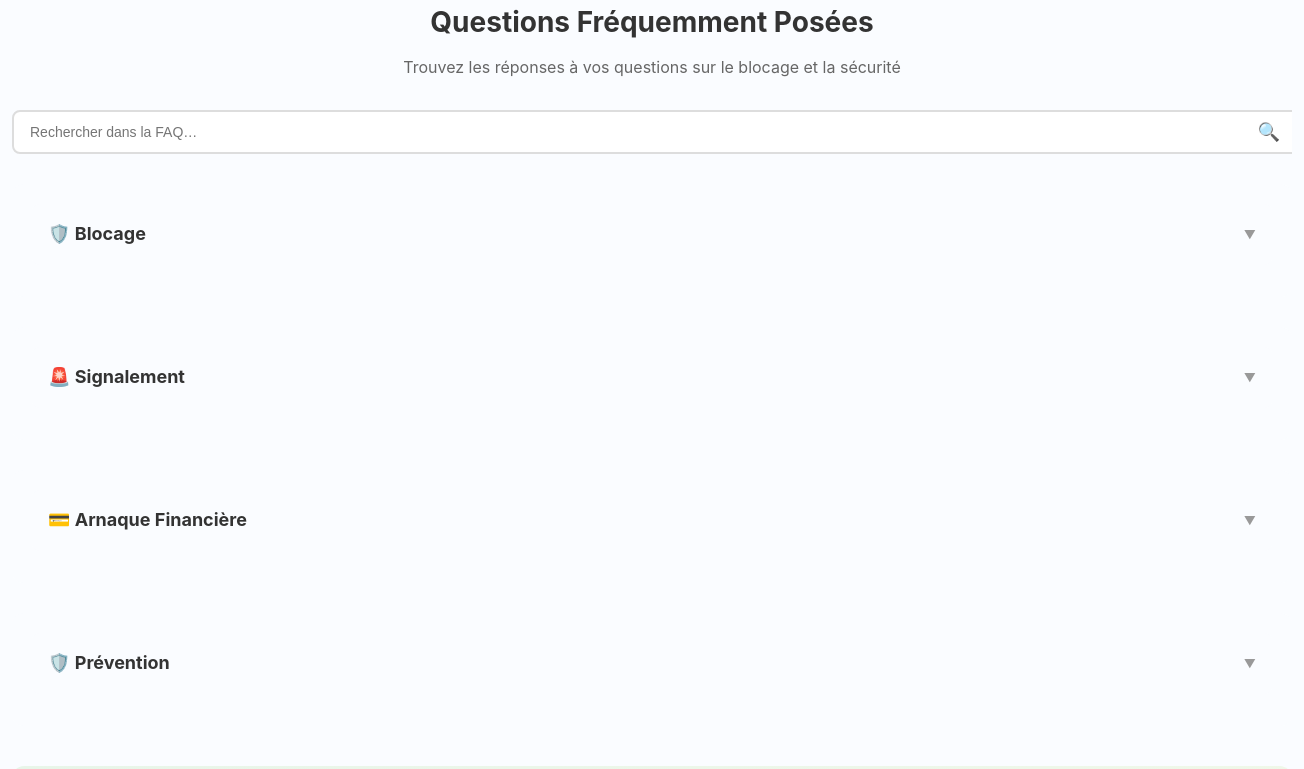
Test: FAQSection Component - Expanded Coverage › Category Display › should show category items when header clicked
Click the button with class "category-header-toggle" showing "🛡️ Blocage ▼" at {"x": 97, "y": 234}, box 32,204 -> 1272,265
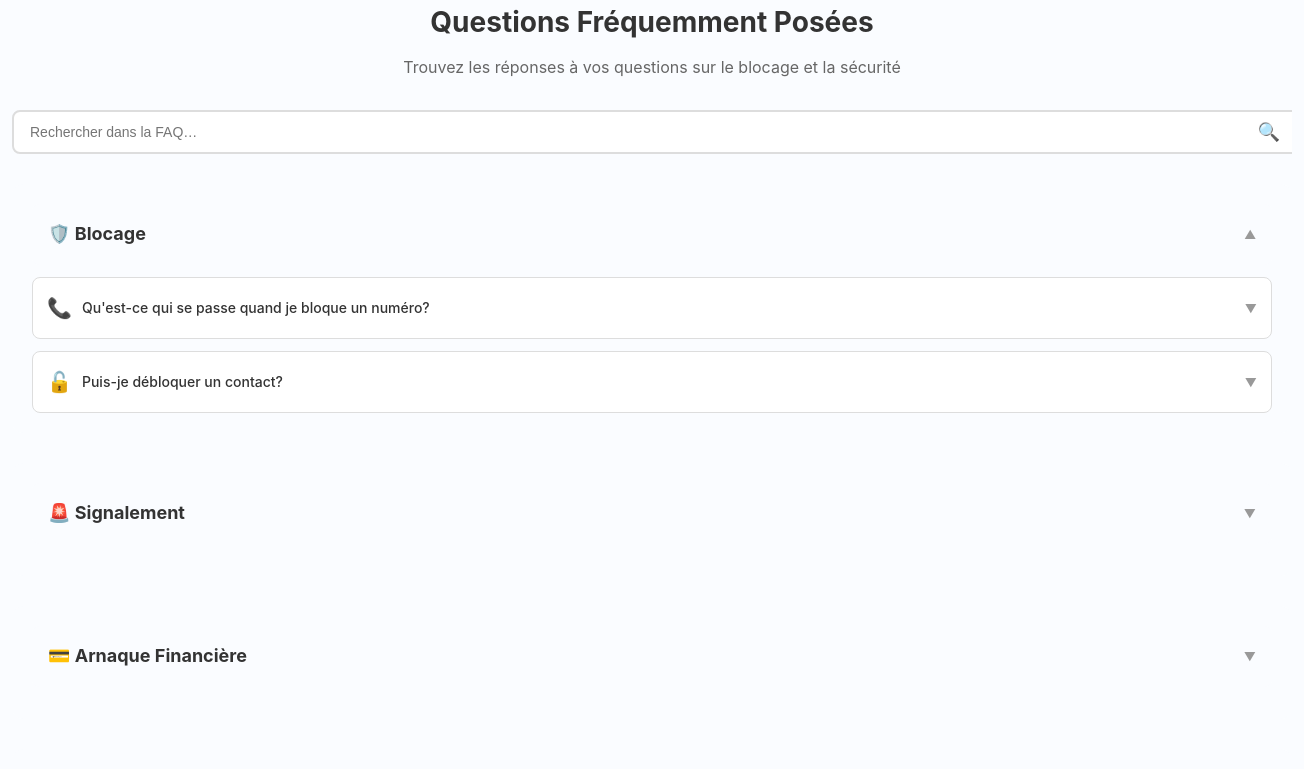
Result: the element with class "category-items" is shown at 32,277 -> 1272,413
